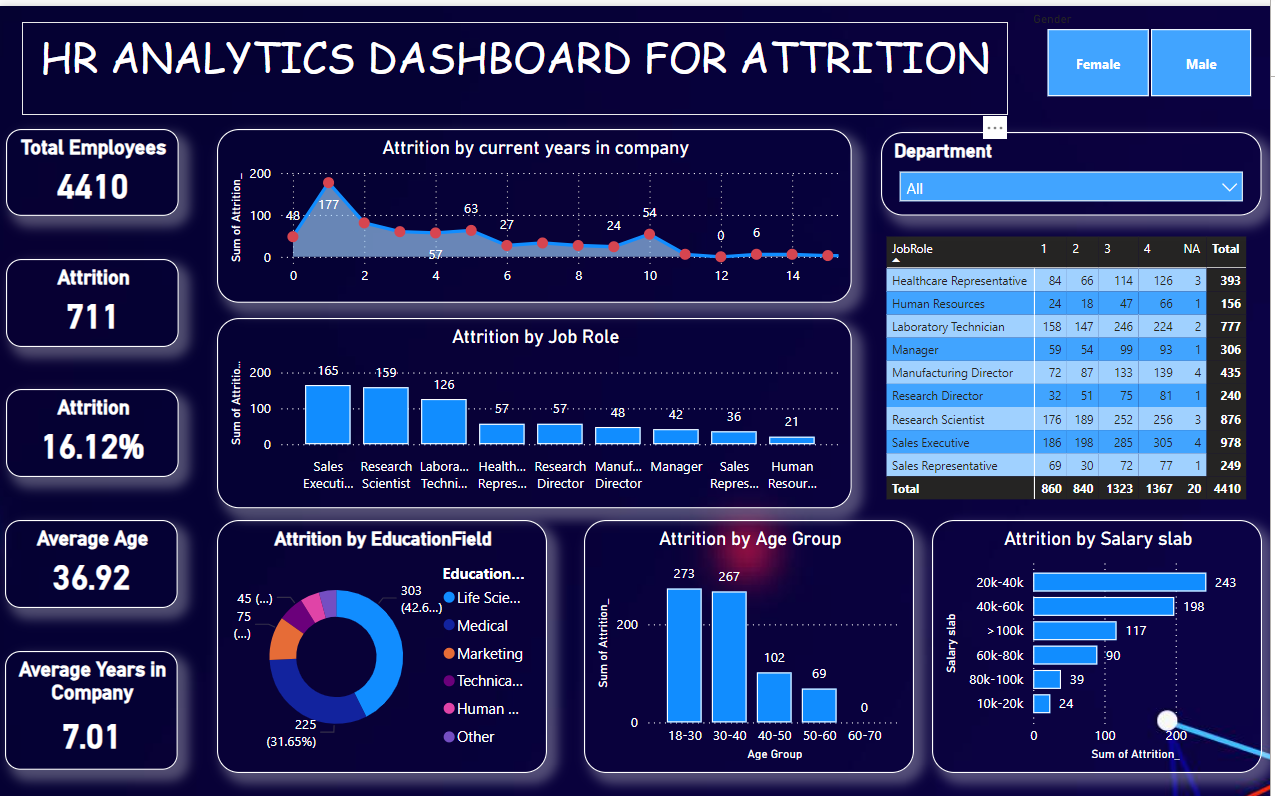

What the dashboard file says about the page in this screenshot:
{"tool":"powerbi","page":{"name":"Page 1","canvas":[1280,720],"ordinal":0},"visuals":[{"type":"card","title":"Total Employees","fields":{"Values":["Sum(Attrition data.EmployeeCount)"]},"box":[6.4,111.8,157.3,79.1],"z":0},{"type":"card","title":"Attrition","fields":{"Values":["Sum(Attrition data.Attrition_)"]},"box":[6.4,229.8,157.3,80],"z":1000},{"type":"card","title":"Attrition","fields":{"Values":["Attrition data.Attrition Percentage"]},"box":[6.4,348.6,157.3,80],"z":2000},{"type":"card","title":"Average Age","fields":{"Values":["Avg(Attrition data.Age)"]},"box":[5.5,467.5,157.3,80],"z":3000},{"type":"card","title":"Average Years in Company","fields":{"Values":["Avg(Attrition data.YearsAtCompany)"]},"box":[5.5,586.4,157.3,108.2],"z":4000},{"type":"donutChart","title":"Attrition by EducationField","fields":{"Y":["Sum(Attrition data.Attrition_)"],"Category":["Attrition data.EducationField"]},"box":[198.2,467.3,300,230],"z":5000},{"type":"clusteredColumnChart","title":"Attrition by Age Group","fields":{"Category":["Attrition data.Age Group"],"Y":["Sum(Attrition data.Attrition_)"]},"box":[531.8,467.3,300,230],"z":6000},{"type":"barChart","title":"Attrition by Salary slab","fields":{"Category":["Attrition data.Salary slab"],"Y":["Sum(Attrition data.Attrition_)"]},"box":[848.2,467.3,300,230],"z":7000},{"type":"clusteredColumnChart","title":"Attrition by Job Role","fields":{"Category":["Attrition data.JobRole"],"Y":["Sum(Attrition data.Attrition_)"]},"box":[198.2,283.6,577.3,172.7],"z":8000},{"type":"areaChart","title":"Attrition by current years in company","fields":{"Category":["Attrition data.YearsAtCompany"],"Y":["Sum(Attrition data.Attrition_)"]},"box":[198.2,111.8,577.3,158.2],"z":9000},{"type":"pivotTable","fields":{"Rows":["Attrition data.JobRole"],"Columns":["Attrition data.JobSatisfaction"],"Values":["Sum(Attrition data.EmployeeCount)"]},"box":[801.8,204.5,340.9,251.8],"z":10000},{"type":"slicer","title":"Department","fields":{"Values":["Attrition data.Department"]},"box":[801.8,114.5,346.4,76.4],"z":11000},{"type":"slicer","fields":{"Values":["Attrition data.Gender"]},"box":[927.3,0,235.5,89.1],"z":11001},{"type":"textbox","box":[20.9,14.5,896.4,84.5],"z":11002}]}

Visuals, with their boxes on the page's 1280x720 design canvas (x1, y1, x2, y2). These are canvas units, not pixel positions in the 1275x796 screenshot, which may show the page scaled, cropped or inside an application window:
"Total Employees" card: left=6, top=112, right=164, bottom=191
"Attrition" card: left=6, top=230, right=164, bottom=310
"Attrition" card: left=6, top=349, right=164, bottom=429
"Average Age" card: left=6, top=468, right=163, bottom=548
"Average Years in Company" card: left=6, top=586, right=163, bottom=695
"Attrition by EducationField" donutChart: left=198, top=467, right=498, bottom=697
"Attrition by Age Group" clusteredColumnChart: left=532, top=467, right=832, bottom=697
"Attrition by Salary slab" barChart: left=848, top=467, right=1148, bottom=697
"Attrition by Job Role" clusteredColumnChart: left=198, top=284, right=776, bottom=456
"Attrition by current years in company" areaChart: left=198, top=112, right=776, bottom=270
pivotTable - Attrition data.JobRole x Attrition data.JobSatisfaction: left=802, top=204, right=1143, bottom=456
"Department" slicer: left=802, top=114, right=1148, bottom=191
slicer - Attrition data.Gender: left=927, top=0, right=1163, bottom=89
textbox: left=21, top=14, right=917, bottom=99
